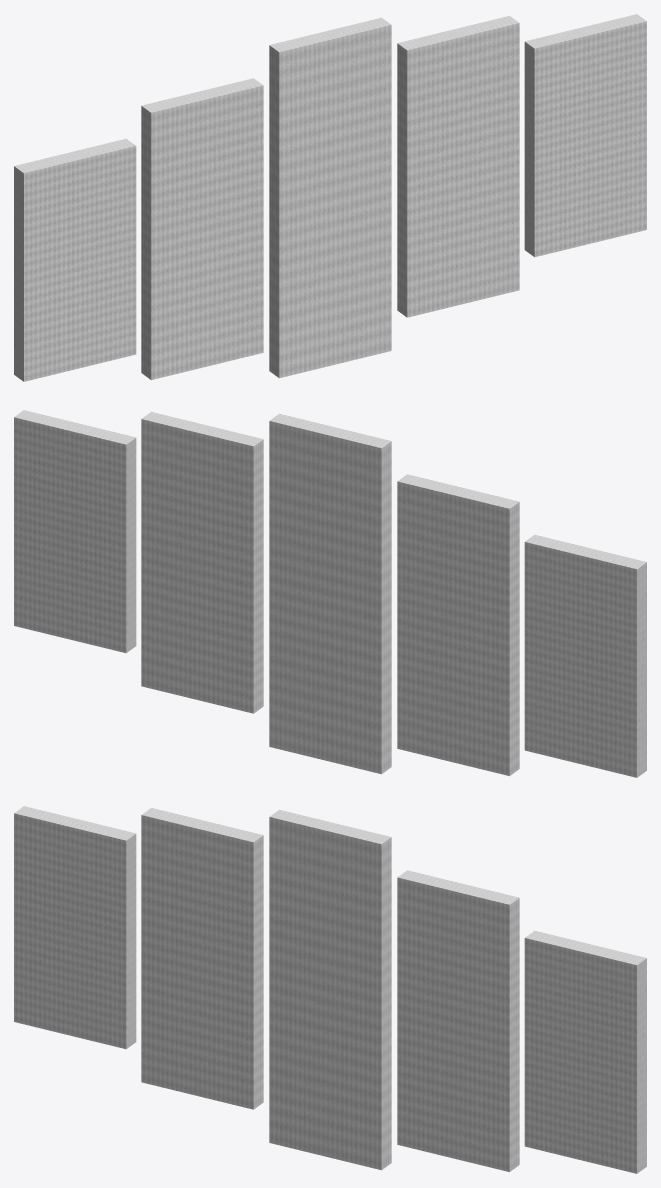
3 renders of one model, top to bottom at view 1: azimuth 30°, elevation 25°; view 2: azimuth 150°, elevation 25°; view 3: azimuth 330°, elevation 25°, orthographic.
Visible parts, largest first — view 1: 3 center_canvas, 2 inner_left_canvas, 4 inner_right_canvas, 1 outer_left_canvas, 5 outer_right_canvas; view 2: 3 center_canvas, 2 inner_left_canvas, 4 inner_right_canvas, 1 outer_left_canvas, 5 outer_right_canvas; view 3: 3 center_canvas, 2 inner_left_canvas, 4 inner_right_canvas, 1 outer_left_canvas, 5 outer_right_canvas.
Boxes of the visible parts, bbox=[...] form: 3 center_canvas: bbox=[269, 17, 391, 378]; 2 inner_left_canvas: bbox=[141, 78, 263, 380]; 4 inner_right_canvas: bbox=[397, 15, 519, 317]; 1 outer_left_canvas: bbox=[14, 138, 136, 381]; 5 outer_right_canvas: bbox=[524, 14, 646, 257]; 3 center_canvas: bbox=[269, 413, 391, 774]; 2 inner_left_canvas: bbox=[397, 474, 519, 776]; 4 inner_right_canvas: bbox=[141, 411, 263, 713]; 1 outer_left_canvas: bbox=[524, 534, 646, 777]; 5 outer_right_canvas: bbox=[14, 410, 136, 653]; 3 center_canvas: bbox=[269, 809, 391, 1170]; 2 inner_left_canvas: bbox=[141, 807, 263, 1109]; 4 inner_right_canvas: bbox=[397, 870, 519, 1172]; 1 outer_left_canvas: bbox=[14, 806, 136, 1049]; 5 outer_right_canvas: bbox=[524, 930, 646, 1173].
Bounding box in the file's own units: 2 × 1 × 0.055.
1 material, 1 textured.
